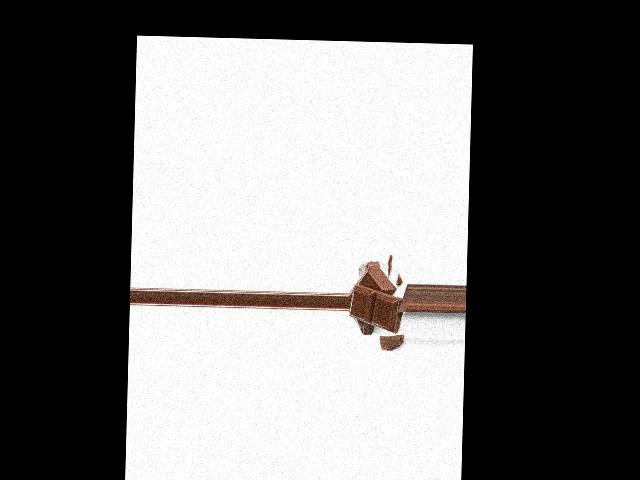chocolate: (351, 283, 401, 331)
